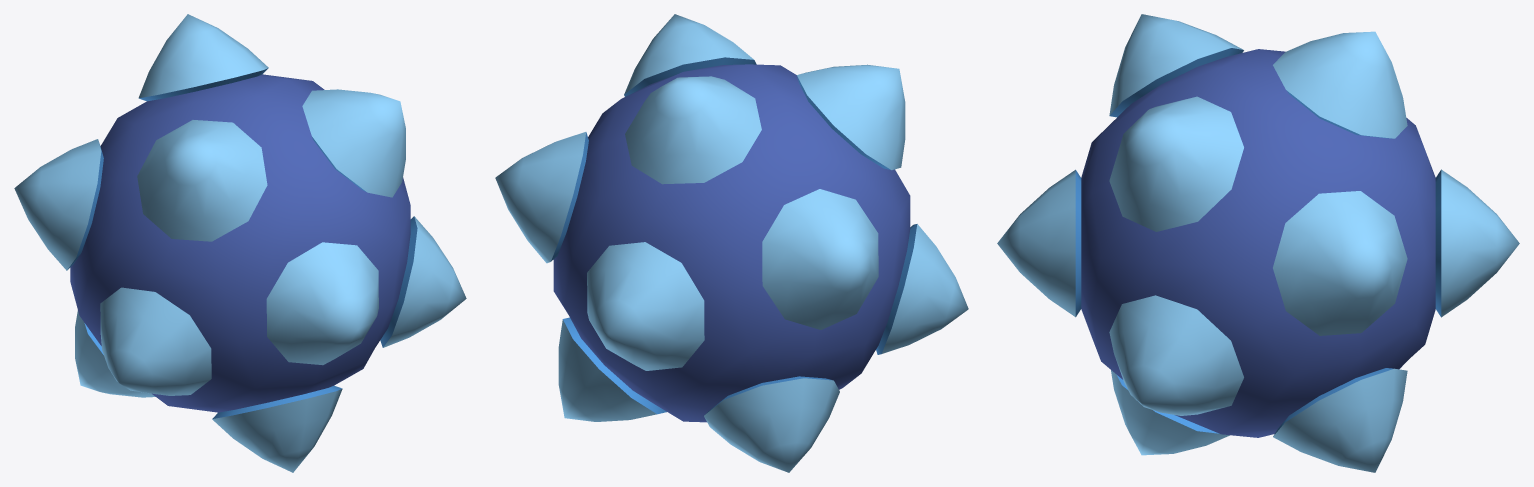
File: Player.fbx
3 views of the same model, side by side, from view 1: azimuth 30°, elevation 25°; view 2: azimuth 150°, elevation 25°; view 3: azimuth 270°, elevation 25° (orthographic). The views are drawn at different scales.
Parts seen in each view (by area): view 1: Player; view 2: Player; view 3: Player.
Boxes of the visible parts, x1,y1,x2,y2 form: Player: (14,14,466,472); Player: (495,14,968,472); Player: (997,14,1519,472).
Bounding box in the file's own units: 417 × 438 × 490.
